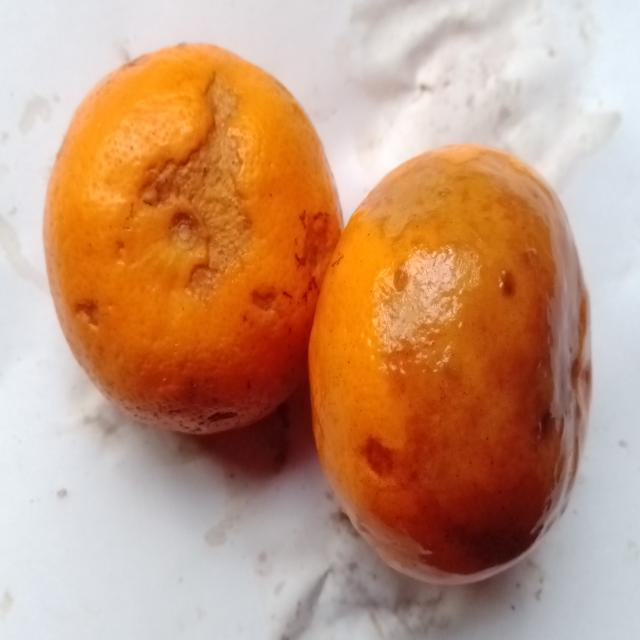orange: (310, 146, 590, 581), (45, 46, 340, 433)
